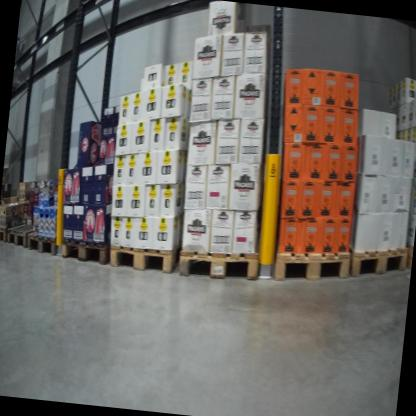pallet: (265, 238, 353, 297), (172, 233, 263, 284), (105, 231, 185, 281), (346, 238, 411, 296), (58, 228, 115, 266), (25, 222, 66, 258), (5, 214, 42, 252), (0, 215, 25, 247)
